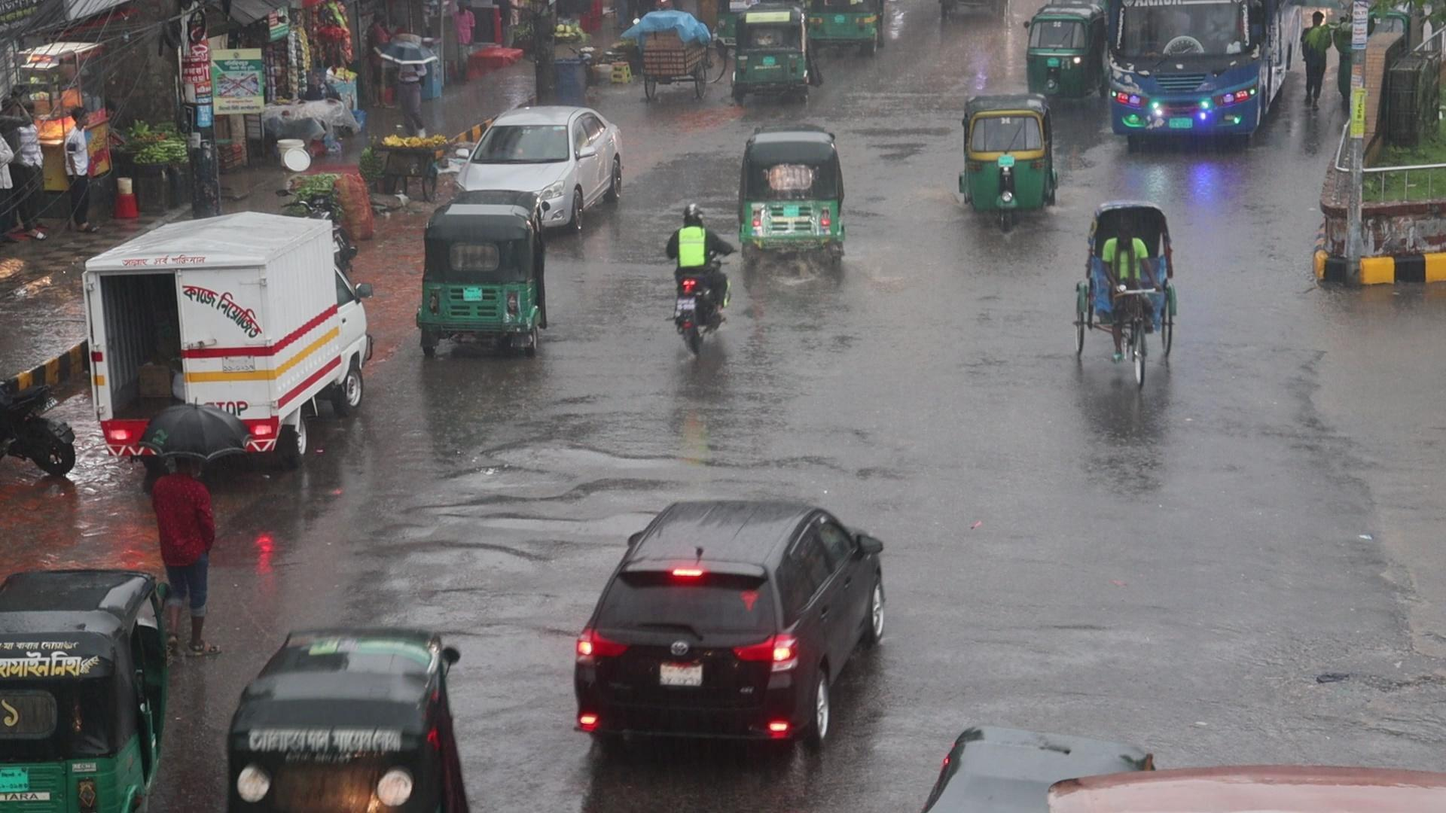Bike: (666, 201, 737, 359)
Car: (574, 498, 888, 749)
